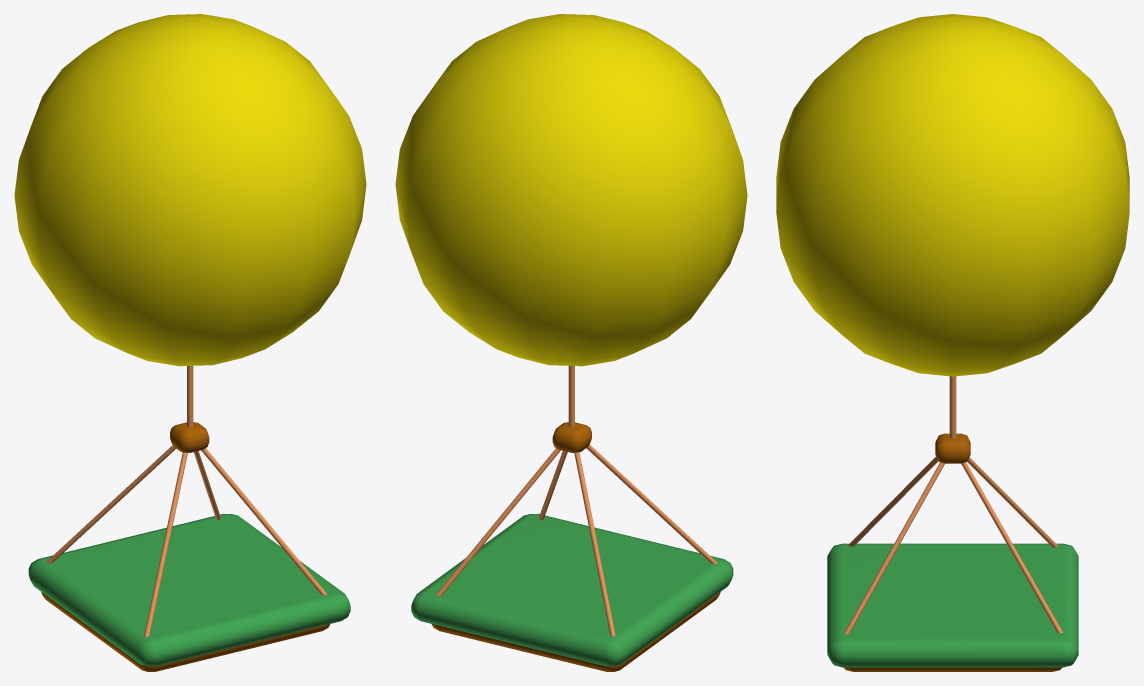
The model's file is PlatformBaloon.fbx.
3 views of the same model, side by side, from view 1: azimuth 30°, elevation 25°; view 2: azimuth 150°, elevation 25°; view 3: azimuth 270°, elevation 25° (orthographic). The views are drawn at different scales.
Visible parts, largest first — view 1: FlyingPlatform6, FlyingPlatform5, FlyingPlatform7, FlyingPlatform11, FlyingPlatform9, FlyingPlatform13, FlyingPlatform12; view 2: FlyingPlatform6, FlyingPlatform5, FlyingPlatform7, FlyingPlatform12, FlyingPlatform10, FlyingPlatform13, FlyingPlatform11; view 3: FlyingPlatform6, FlyingPlatform5, FlyingPlatform9, FlyingPlatform10, FlyingPlatform7, FlyingPlatform13, FlyingPlatform12, FlyingPlatform11.
Boxes of the visible parts, x1=… form: FlyingPlatform6: x1=14, y1=14, x2=366, y2=366; FlyingPlatform5: x1=28, y1=513, x2=350, y2=666; FlyingPlatform7: x1=41, y1=592, x2=330, y2=671; FlyingPlatform11: x1=144, y1=452, x2=187, y2=637; FlyingPlatform9: x1=201, y1=448, x2=327, y2=594; FlyingPlatform13: x1=170, y1=422, x2=209, y2=452; FlyingPlatform12: x1=46, y1=445, x2=176, y2=563; FlyingPlatform6: x1=395, y1=14, x2=747, y2=366; FlyingPlatform5: x1=411, y1=513, x2=733, y2=666; FlyingPlatform7: x1=431, y1=592, x2=720, y2=671; FlyingPlatform12: x1=574, y1=452, x2=615, y2=636; FlyingPlatform10: x1=436, y1=448, x2=560, y2=595; FlyingPlatform13: x1=552, y1=422, x2=591, y2=452; FlyingPlatform11: x1=586, y1=444, x2=717, y2=564; FlyingPlatform6: x1=776, y1=14, x2=1129, y2=376; FlyingPlatform5: x1=827, y1=543, x2=1078, y2=667; FlyingPlatform9: x1=844, y1=462, x2=944, y2=634; FlyingPlatform10: x1=961, y1=462, x2=1062, y2=633; FlyingPlatform7: x1=844, y1=667, x2=1061, y2=671; FlyingPlatform13: x1=935, y1=433, x2=970, y2=463; FlyingPlatform12: x1=967, y1=457, x2=1057, y2=547; FlyingPlatform11: x1=848, y1=456, x2=938, y2=546.
Bounding box in the file's own units: 4.73 × 8.64 × 4.62.
